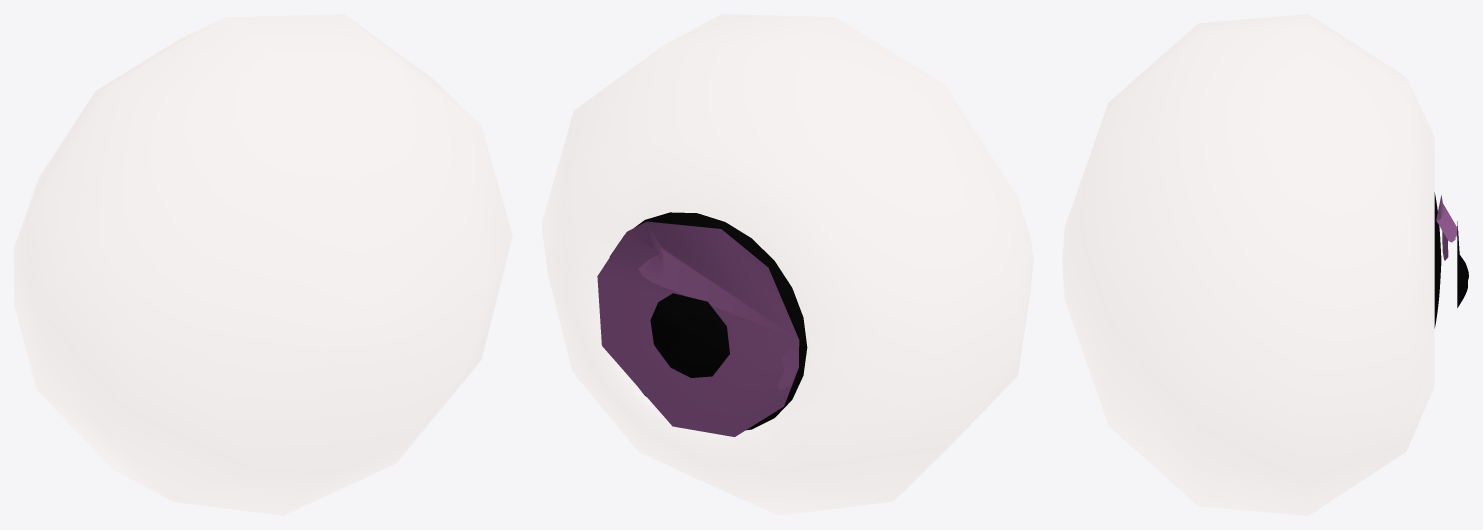
File: Eyeball.fbx
3 views of the same model, side by side, from view 1: azimuth 30°, elevation 25°; view 2: azimuth 150°, elevation 25°; view 3: azimuth 270°, elevation 25° (orthographic).
Parts seen in each view (by area): view 1: Eye_Ball; view 2: Eye_Ball, Iris, Pupil, Cornea; view 3: Eye_Ball, Cornea, Iris, Pupil.
Boxes of the visible parts, x1=… form: Eye_Ball: x1=14, y1=14, x2=512, y2=515; Eye_Ball: x1=541, y1=14, x2=1033, y2=515; Iris: x1=597, y1=221, x2=799, y2=436; Pupil: x1=650, y1=293, x2=729, y2=377; Cornea: x1=610, y1=212, x2=807, y2=430; Eye_Ball: x1=1062, y1=14, x2=1434, y2=515; Cornea: x1=1434, y1=192, x2=1441, y2=328; Iris: x1=1436, y1=195, x2=1457, y2=260; Pupil: x1=1457, y1=221, x2=1468, y2=307.
Bounding box in the file's own units: 2108 × 2093 × 1686.
